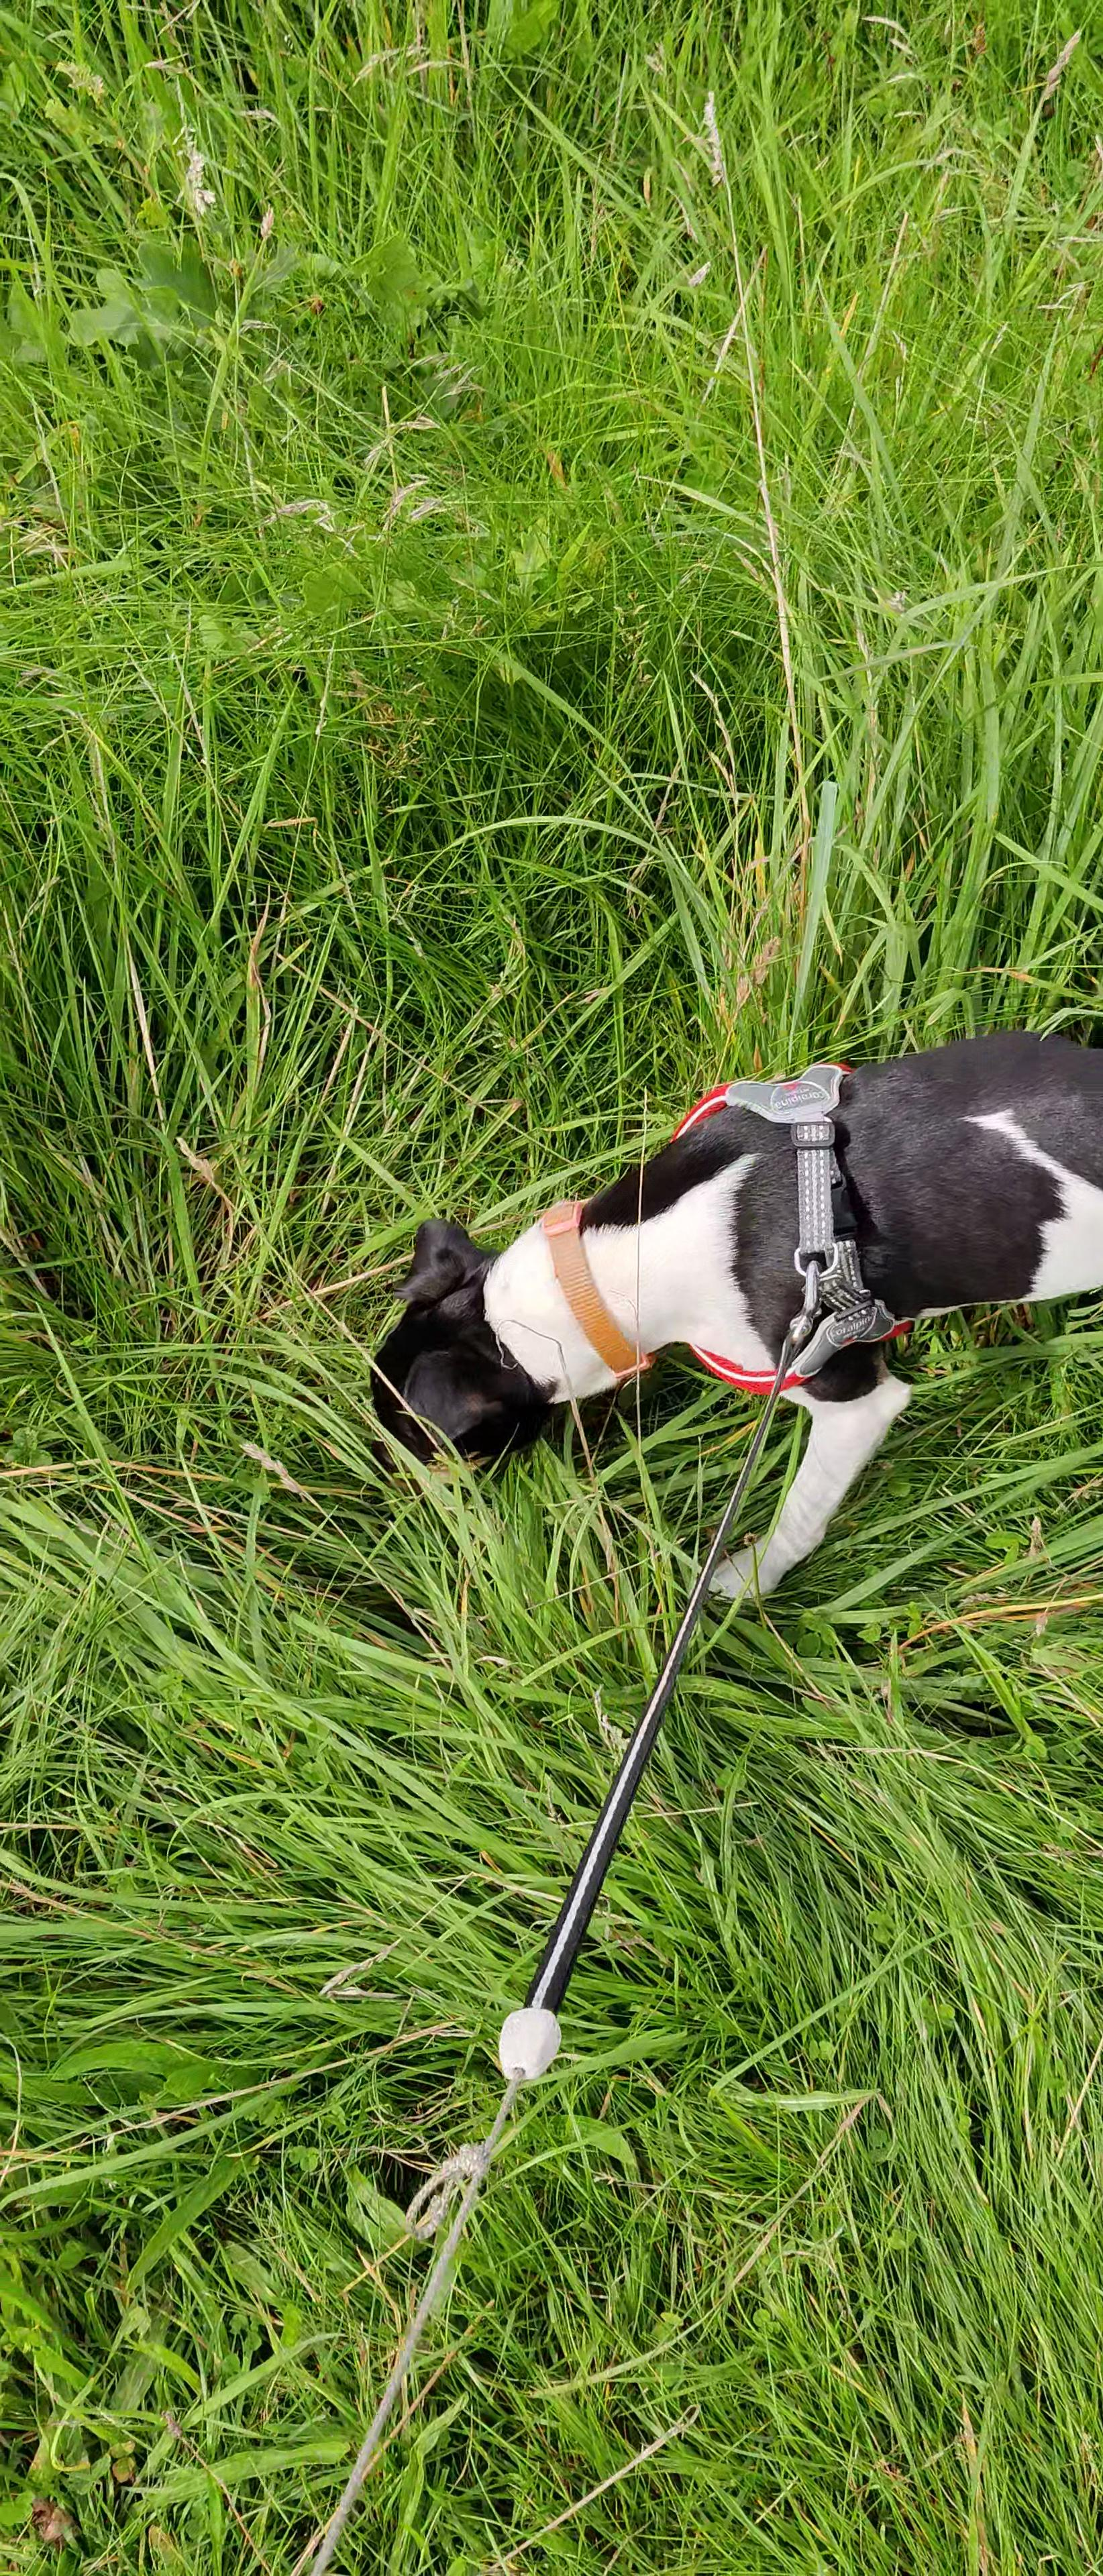Dog: (342, 984, 1103, 1638)
